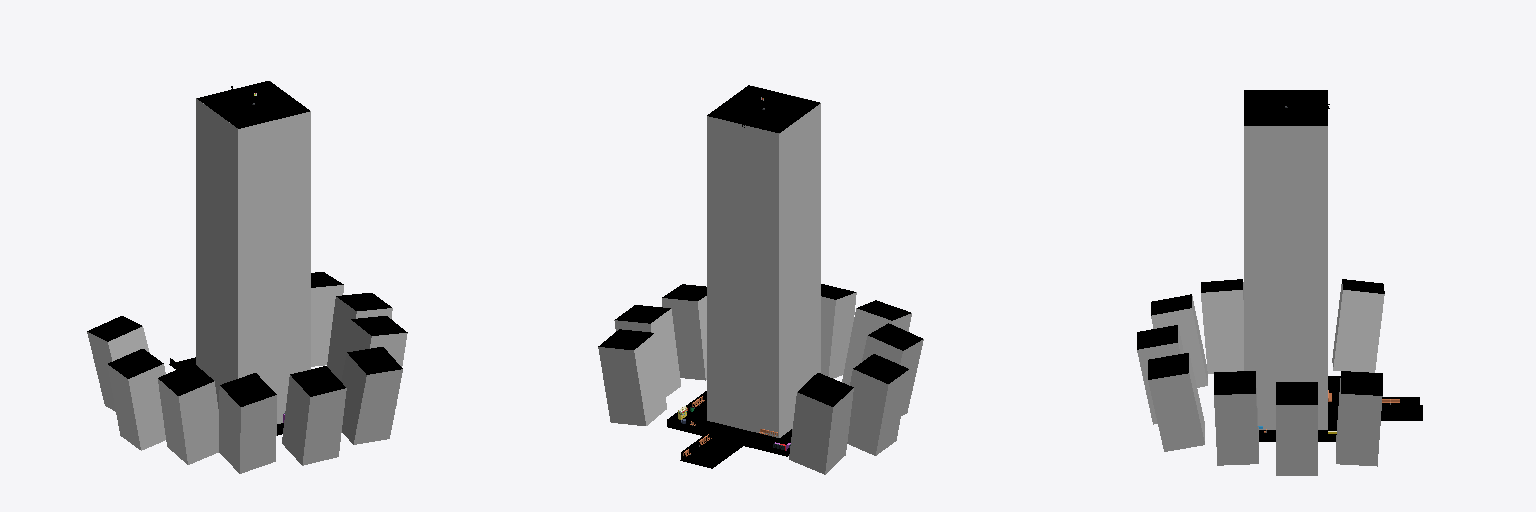
3 renders of one model, left to right at view 1: azimuth 30°, elevation 25°; view 2: azimuth 150°, elevation 25°; view 3: azimuth 270°, elevation 25°, orthographic.
Visible parts, largest first — view 1: Building_LargeBrick.002; view 2: Building_LargeBrick.002; view 3: Building_LargeBrick.002.
Boxes of the visible parts, x1=… form: Building_LargeBrick.002: x1=87, y1=81, x2=407, y2=473; Building_LargeBrick.002: x1=598, y1=85, x2=923, y2=474; Building_LargeBrick.002: x1=1137, y1=90, x2=1422, y2=475.
Bounding box in the file's own units: 61.15 × 69.49 × 56.25.
5 materials, 1 textured.